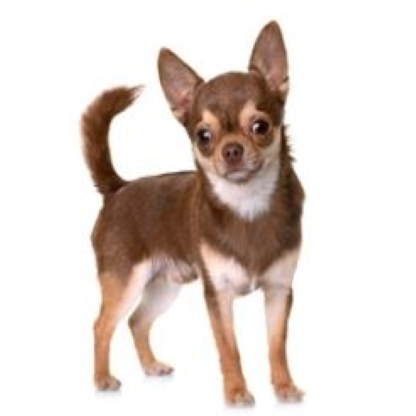chihuahua: (74, 17, 307, 413)
